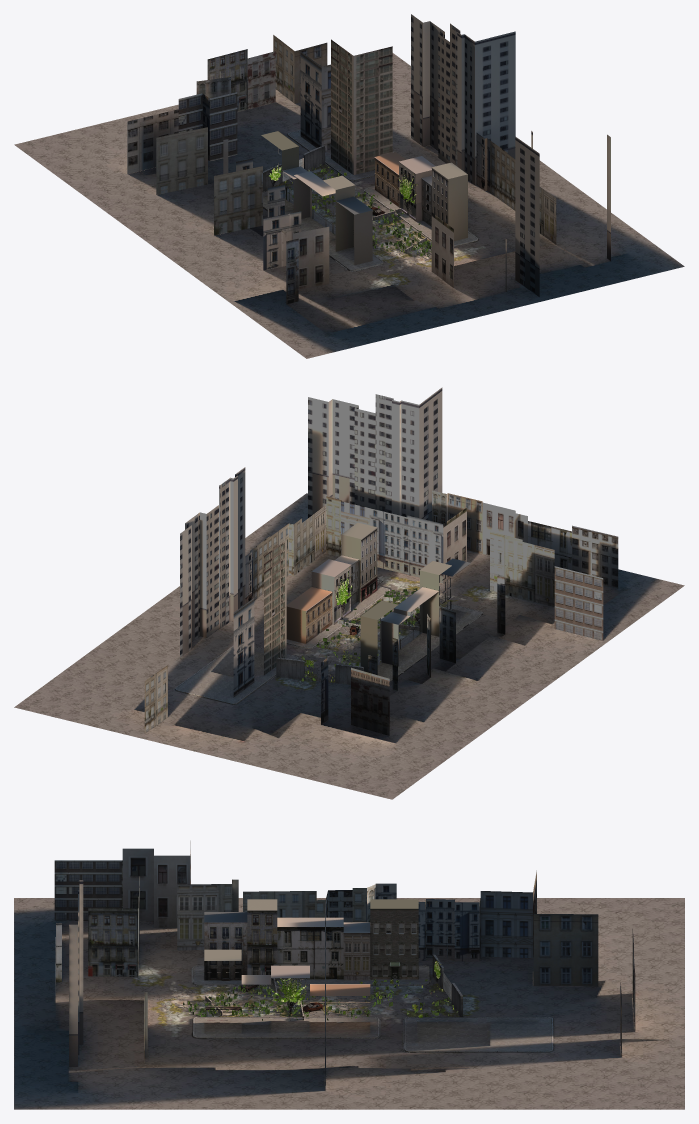
The model's file is postwar_city_game_ready.glb.
3 renders of one model, top to bottom at view 1: azimuth 30°, elevation 25°; view 2: azimuth 150°, elevation 25°; view 3: azimuth 270°, elevation 25°, orthographic. The views are drawn at different scales.
Parts seen in each view (by area): view 1: 42526024.001, 42526024, 42526024.014, 42526024.011, TexturesCom_HighRiseTowers0146_S, 42526024.015, 42526024.008, TexturesCom_HighRiseResidential0035_S, TexturesCom_BuildingsHouseOld0007_M, Circle, TexturesCom_BuildingsDerelict0001_M, TexturesCom_BuildingsDerelict0132_S (+7 smaller); view 2: 42526024.001, 42526024.006, 42526024.007, 42526024.014, 42526024.011, 42526024.008, TexturesCom_HighRiseTowers0146_S, Circle.005, TexturesCom_BuildingsDerelict0132_S, TexturesCom_HighRiseResidential0035_S, Circle, 42526024.015 (+7 smaller); view 3: 42526024.001, 42526024.005, Circle.005, TexturesCom_BuildingsTallHouse0057_S, TexturesCom_BuildingsHouseOld0005_M, Circle.004, TexturesCom_BuildingsDerelict0001_M, TexturesCom_BuildingsHouseOld0007_M, 42526024.008, TexturesCom_Buildings18thCentury0035_1_S, grass.144, Circle (+8 smaller).
Part boxes in pixels (x1=…): 42526024.001: x1=14, y1=53, x2=684, y2=358; 42526024: x1=127, y1=42, x2=487, y2=304; 42526024.014: x1=202, y1=35, x2=556, y2=291; 42526024.011: x1=411, y1=14, x2=474, y2=184; TexturesCom_HighRiseTowers0146_S: x1=331, y1=39, x2=392, y2=174; 42526024.015: x1=423, y1=21, x2=515, y2=185; 42526024.008: x1=515, y1=131, x2=610, y2=296; TexturesCom_HighRiseResidential0035_S: x1=431, y1=162, x2=467, y2=240; TexturesCom_BuildingsHouseOld0007_M: x1=323, y1=175, x2=355, y2=251; Circle: x1=263, y1=190, x2=382, y2=269; TexturesCom_BuildingsDerelict0001_M: x1=336, y1=196, x2=372, y2=265; TexturesCom_BuildingsDerelict0132_S: x1=374, y1=152, x2=405, y2=207; 42526024.001: x1=14, y1=493, x2=684, y2=799; 42526024.006: x1=289, y1=490, x2=618, y2=735; 42526024.007: x1=308, y1=394, x2=419, y2=517; 42526024.014: x1=144, y1=493, x2=466, y2=733; 42526024.011: x1=180, y1=467, x2=245, y2=657; 42526024.008: x1=328, y1=387, x2=442, y2=520; TexturesCom_HighRiseTowers0146_S: x1=264, y1=540, x2=286, y2=675; Circle.005: x1=176, y1=646, x2=296, y2=703; TexturesCom_BuildingsDerelict0132_S: x1=286, y1=587, x2=332, y2=643; TexturesCom_HighRiseResidential0035_S: x1=341, y1=522, x2=377, y2=602; Circle: x1=377, y1=605, x2=481, y2=679; 42526024.015: x1=200, y1=477, x2=233, y2=637; 42526024.001: x1=14, y1=898, x2=684, y2=1109; 42526024.005: x1=54, y1=848, x2=598, y2=1057; Circle.005: x1=405, y1=1017, x2=551, y2=1051; TexturesCom_BuildingsTallHouse0057_S: x1=370, y1=899, x2=418, y2=979; TexturesCom_BuildingsHouseOld0005_M: x1=277, y1=917, x2=343, y2=979; Circle.004: x1=194, y1=1017, x2=377, y2=1037; TexturesCom_BuildingsDerelict0001_M: x1=204, y1=912, x2=247, y2=980; TexturesCom_BuildingsHouseOld0007_M: x1=247, y1=899, x2=277, y2=980; 42526024.008: x1=69, y1=880, x2=83, y2=1066; TexturesCom_Buildings18thCentury0035_1_S: x1=343, y1=922, x2=370, y2=980; grass.144: x1=183, y1=979, x2=453, y2=1020; Circle: x1=194, y1=966, x2=428, y2=983.
Bounding box in the file's own units: 5.9 × 2.15 × 7.9.
76 materials, 76 textured.
